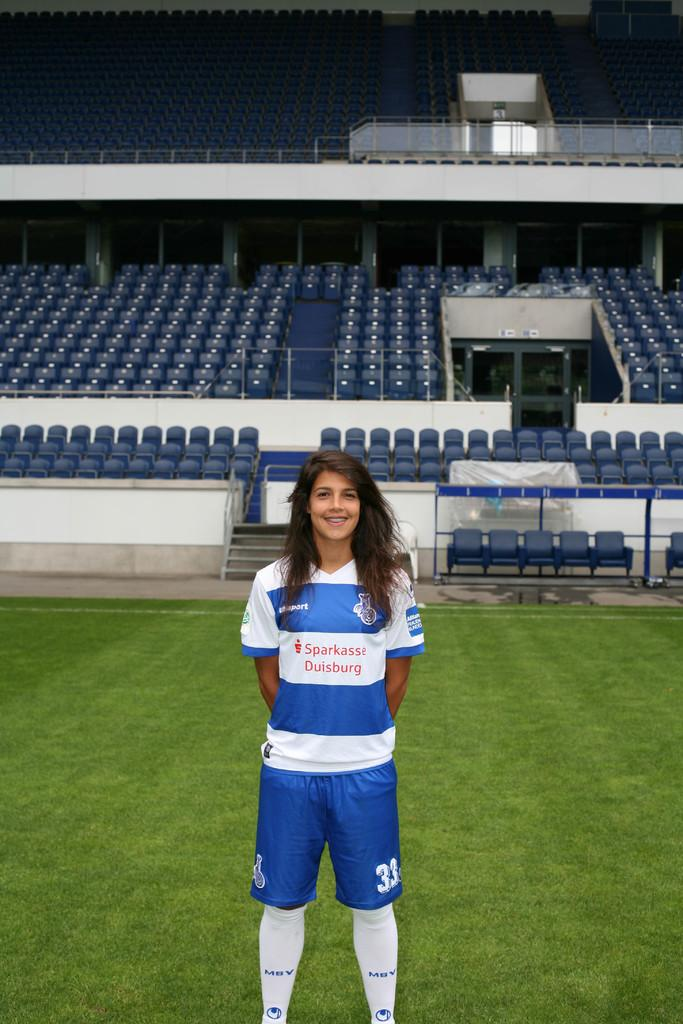no_helmet: (289, 436, 383, 524)
none: (259, 536, 419, 936)
